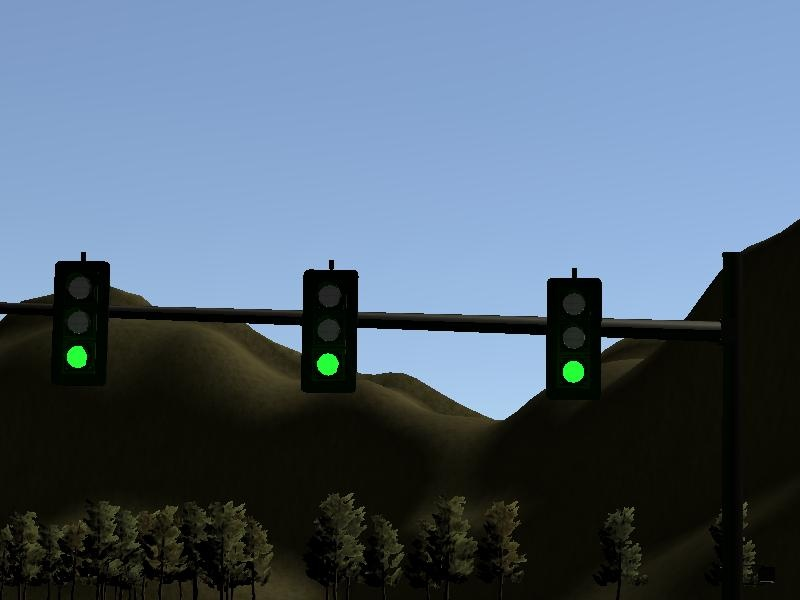GREEN: (53, 261, 109, 387), (302, 267, 358, 393), (546, 277, 602, 403)
